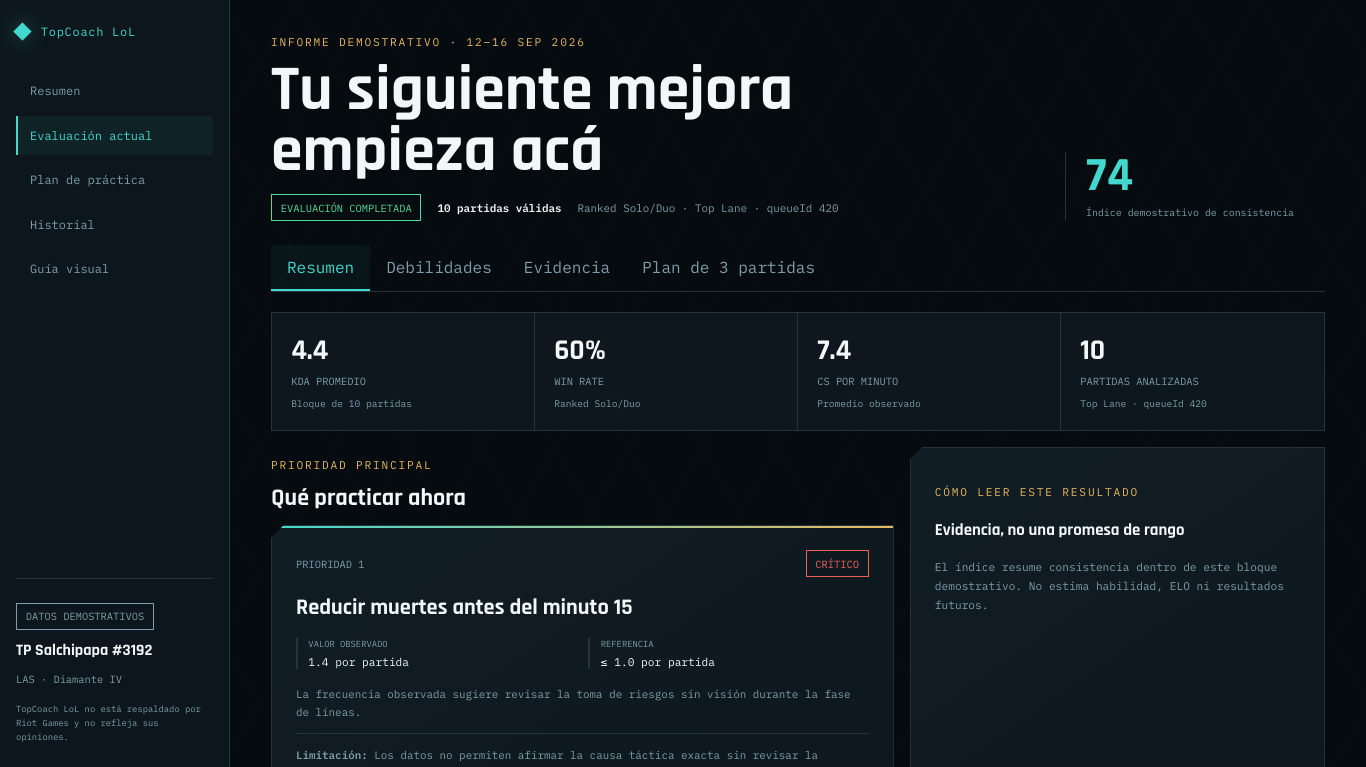
evaluation flow › switches report tabs and preserves the ten-match rule
The image size is (1366, 767).
Check: the text "10 partidas válidas" is shown, box [438,201,562,215]
Click the tab "Evidencia": (567, 268) [508,245,626,291]
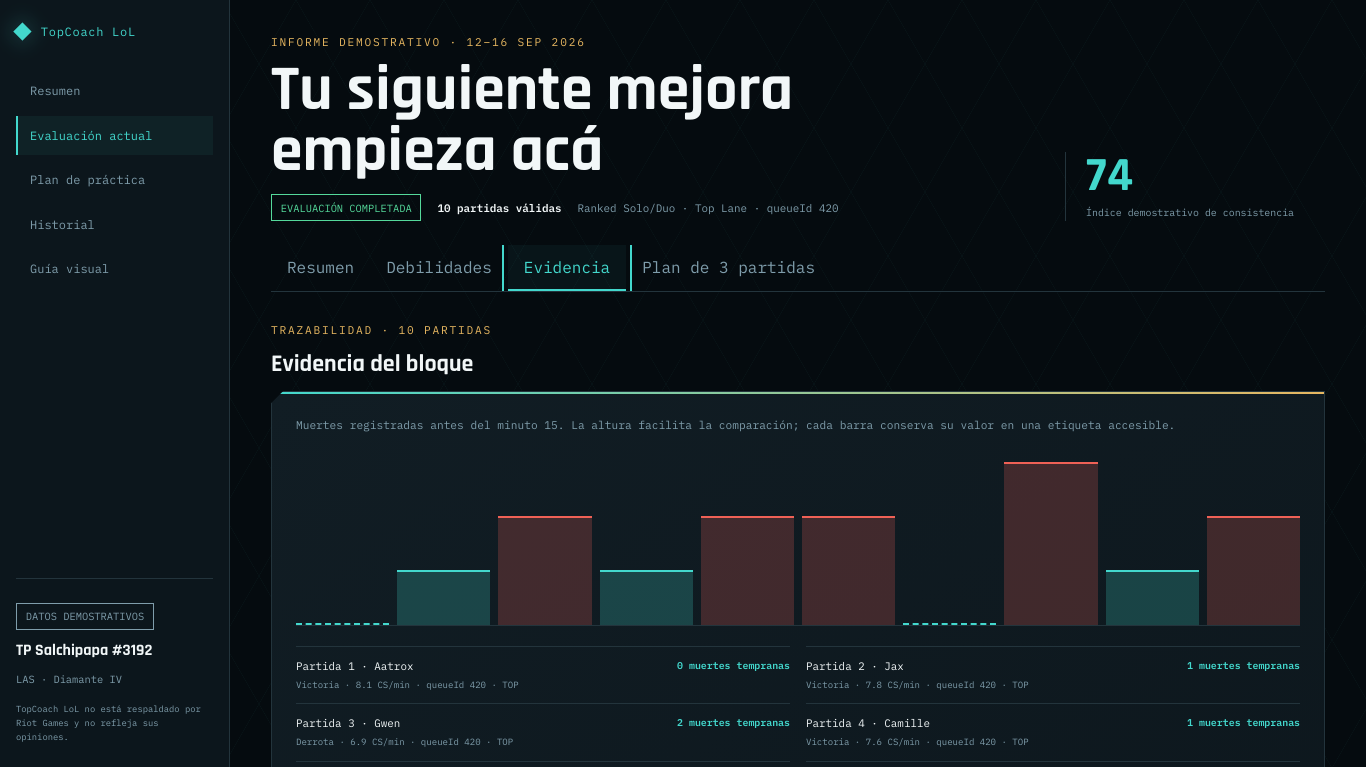
Check: the heading "Evidencia del bloque" is shown, box [271,348,492,378]
Click the tab "Plan de 3 partidas": (729, 268) [626,245,831,291]
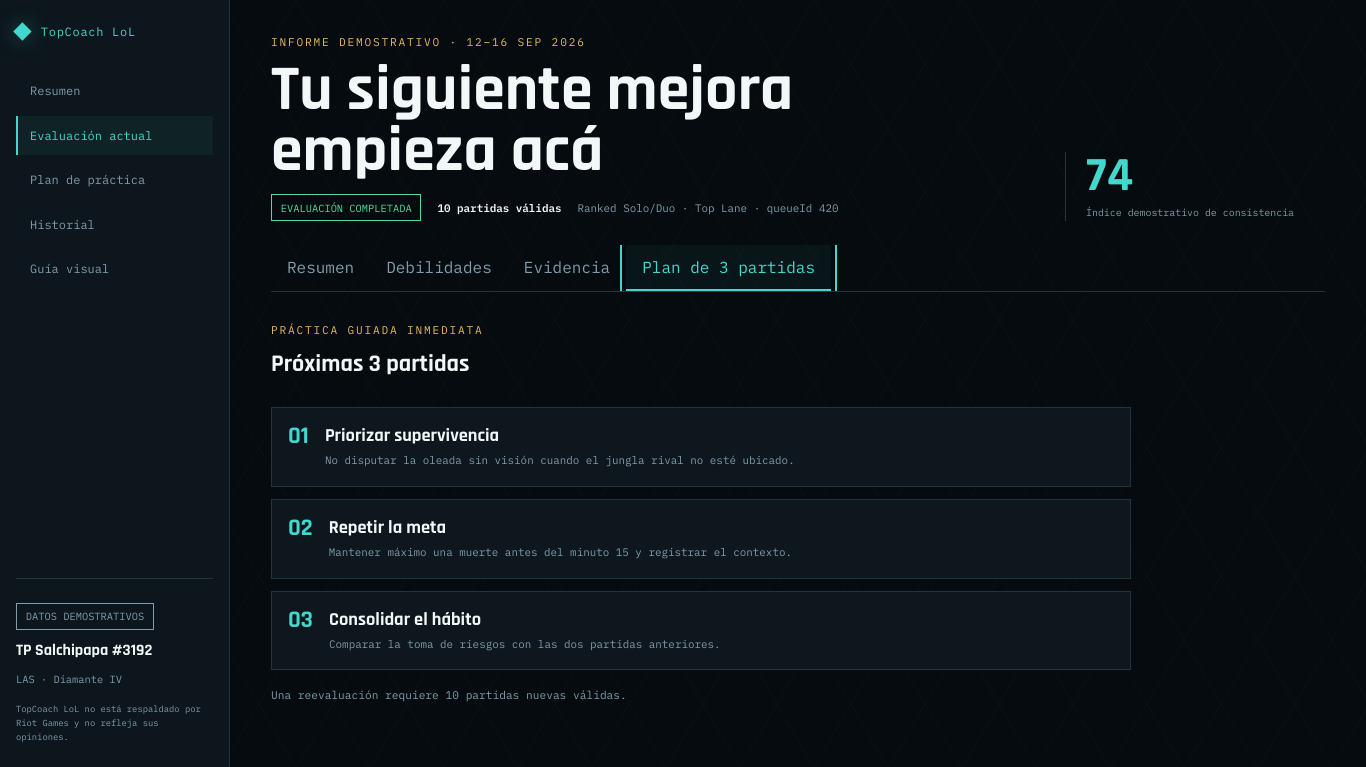
Check: the text "Una reevaluación requiere 10 partidas nuevas válidas." is shown, box [271,688,627,702]
